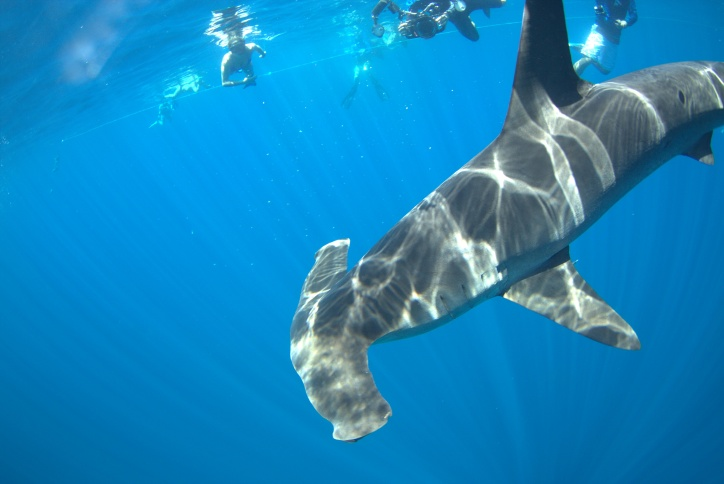Hammer: (276, 1, 724, 480)
